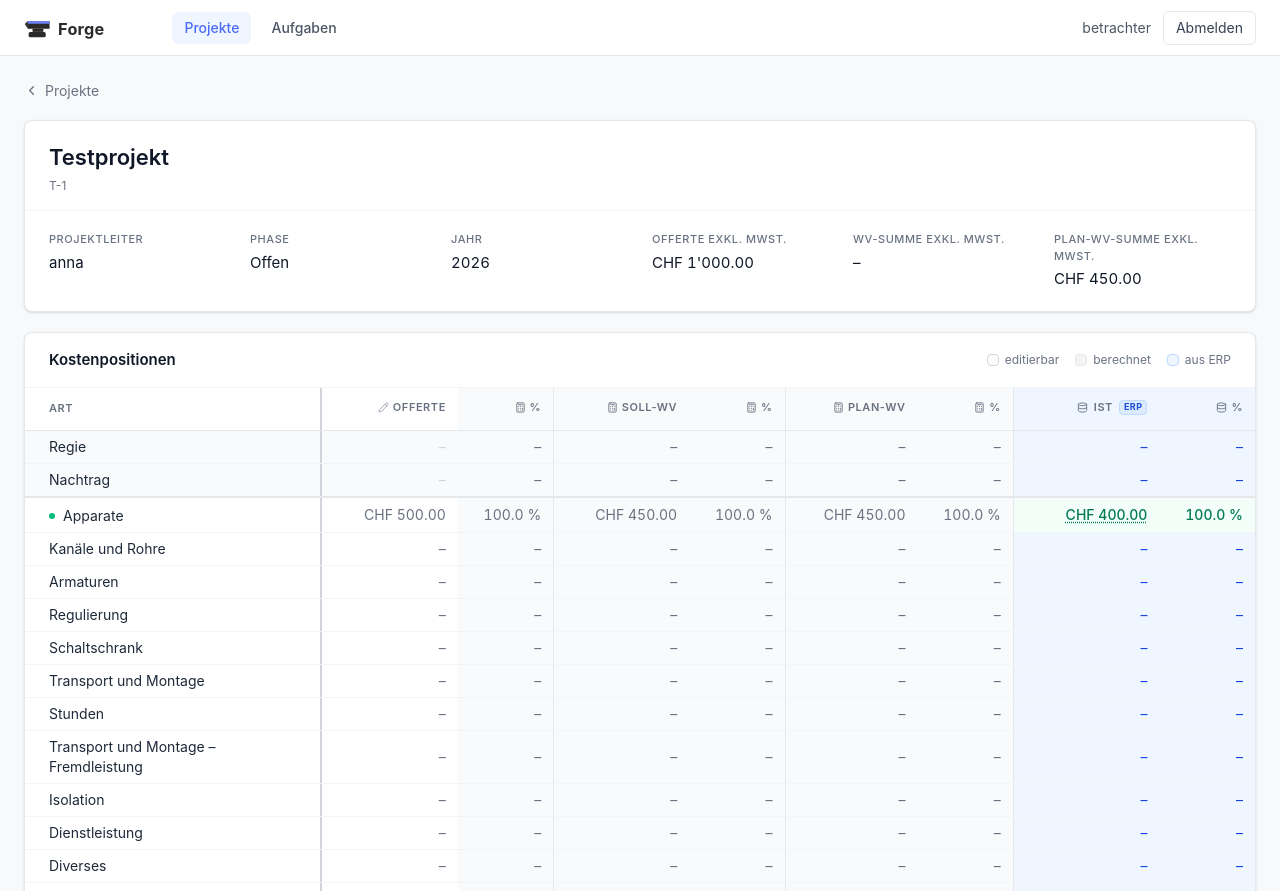
Test: ProjektDetailPage – Rechnungen-Pop-up › öffnet das Rechnungen-Pop-up beim Klick auf einen Ist-Wert
What coordinates should you click on to do the following:
click the button "CHF 400.00"
I would click on:
 (1106, 515)
Its box is [1066,505,1147,525].
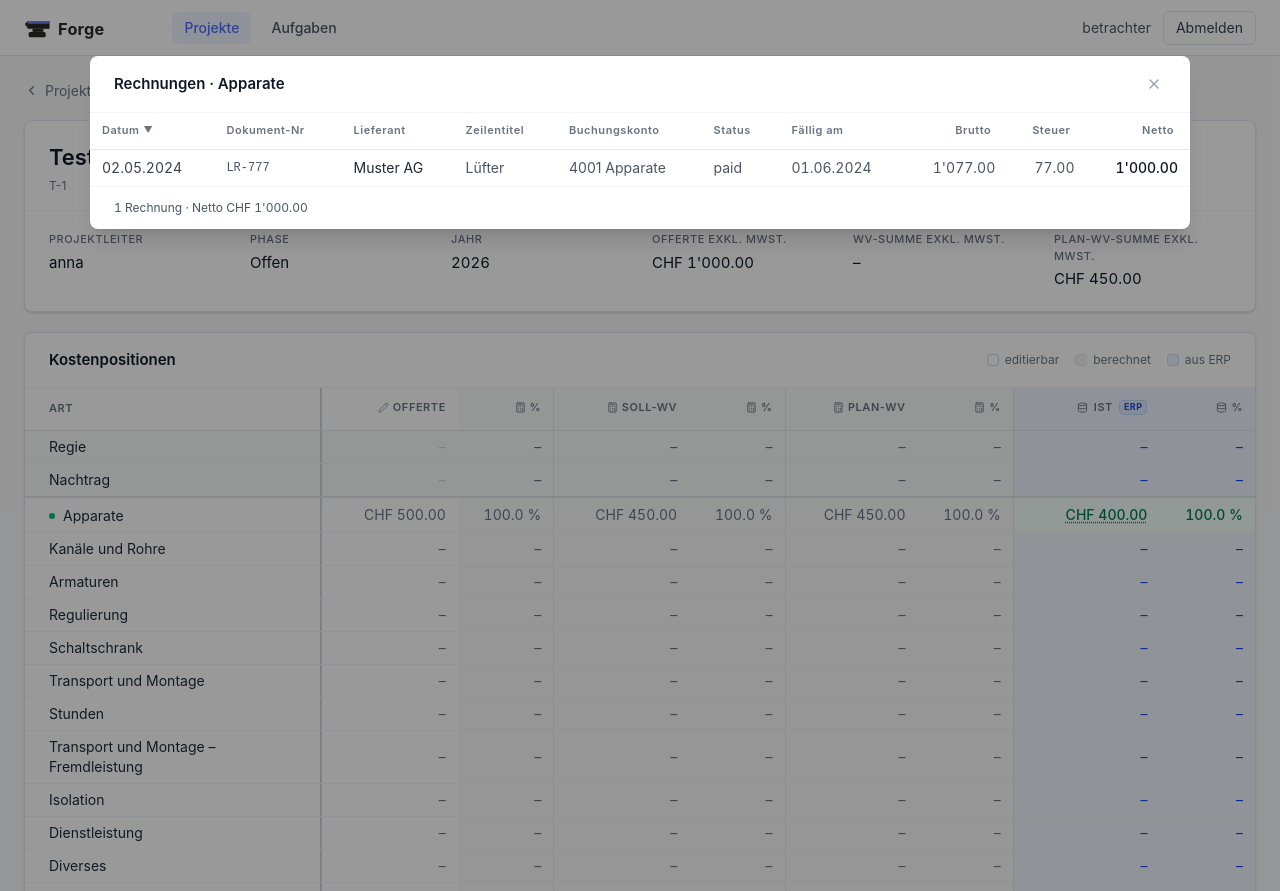
Expected: the text "LR-777" is shown, [214,149,342,186]
Expected: the heading "Rechnungen · Apparate" is shown, [114,73,284,95]
